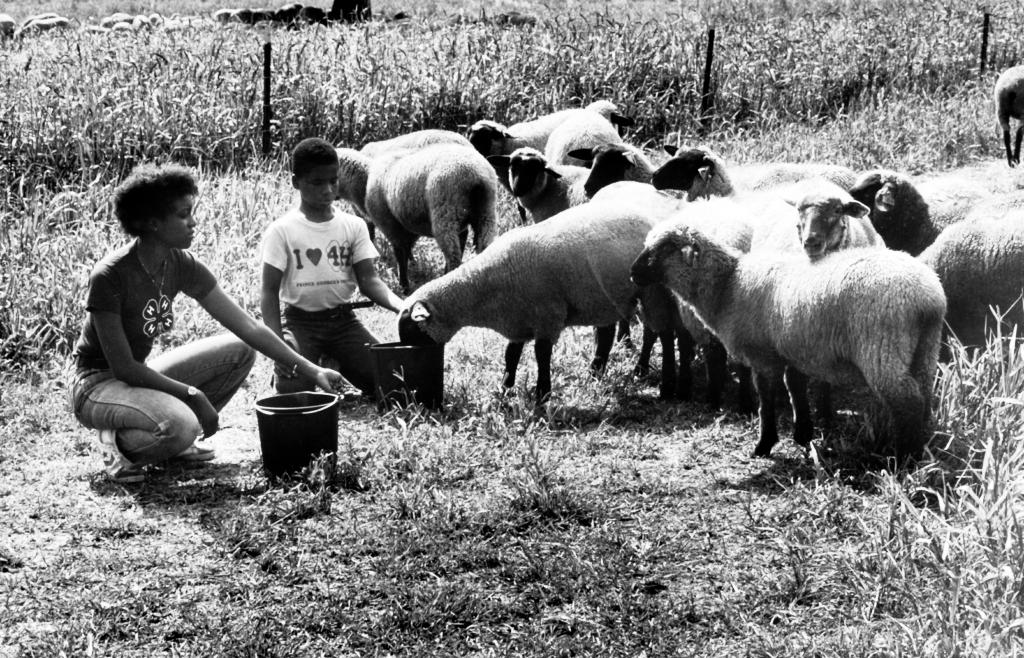Sheep: (649, 231, 937, 463), (855, 171, 1017, 374), (343, 148, 493, 272), (653, 146, 872, 212), (563, 193, 672, 319), (491, 143, 650, 224), (759, 175, 879, 266), (477, 103, 632, 161), (844, 171, 936, 257), (641, 193, 754, 260), (333, 149, 377, 239), (491, 148, 565, 199), (362, 129, 479, 158), (679, 146, 739, 199), (753, 192, 811, 245), (993, 65, 1022, 166), (920, 175, 999, 209), (465, 120, 517, 160), (584, 100, 638, 134), (620, 147, 659, 185), (16, 13, 74, 38), (359, 140, 398, 159), (161, 13, 200, 30), (100, 13, 136, 30), (271, 6, 298, 25), (249, 8, 276, 25), (0, 14, 16, 40), (212, 9, 237, 23), (231, 9, 253, 24), (132, 14, 152, 30), (146, 13, 165, 28)
